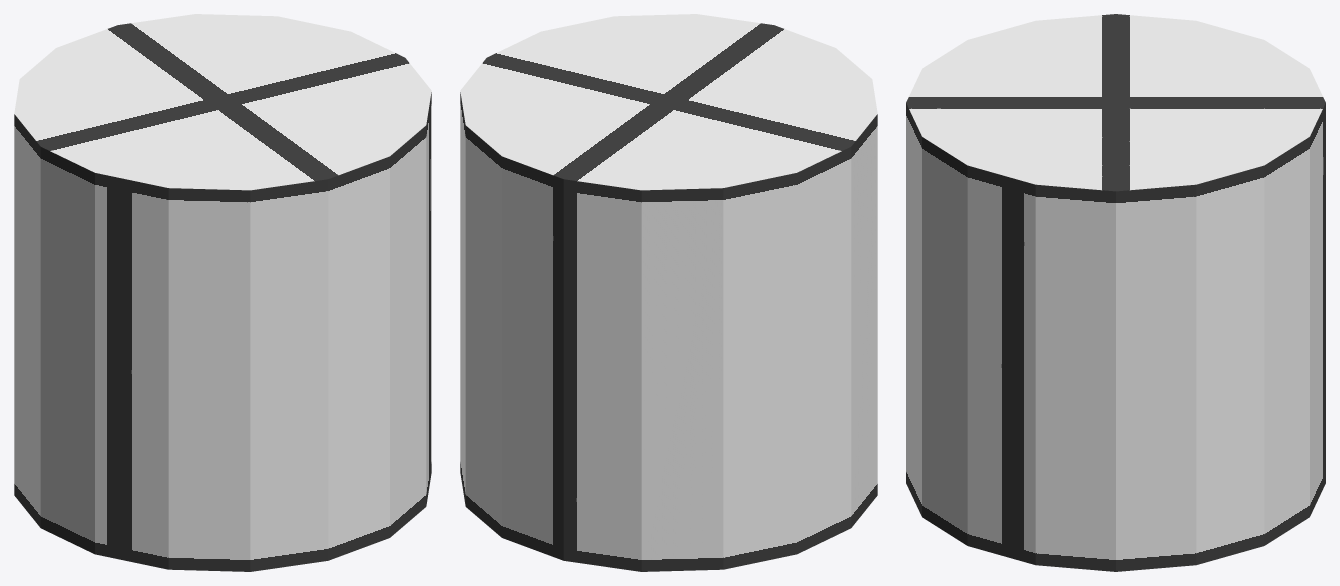
Rendered from LightCylinder.obj.
3 views of the same model, side by side, from view 1: azimuth 30°, elevation 25°; view 2: azimuth 150°, elevation 25°; view 3: azimuth 270°, elevation 25° (orthographic).
Bounding box in the file's own units: 2 × 2 × 2.
Materials: 1 (1 with a texture image).
